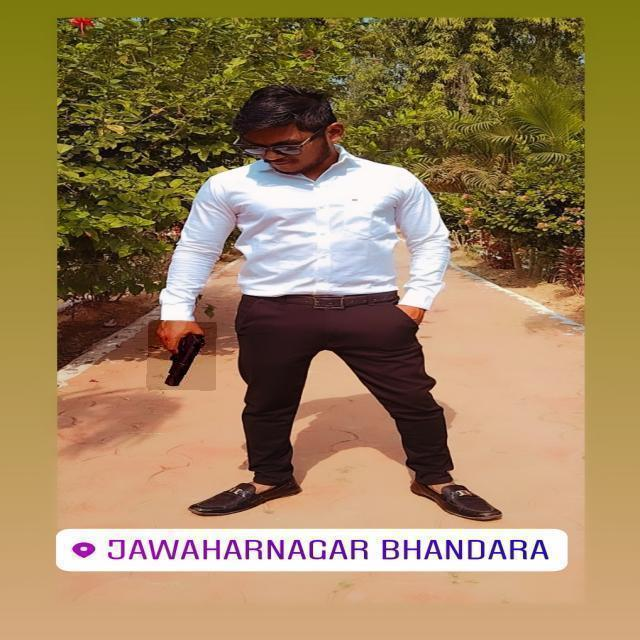Handgun: (147, 321, 217, 391)
